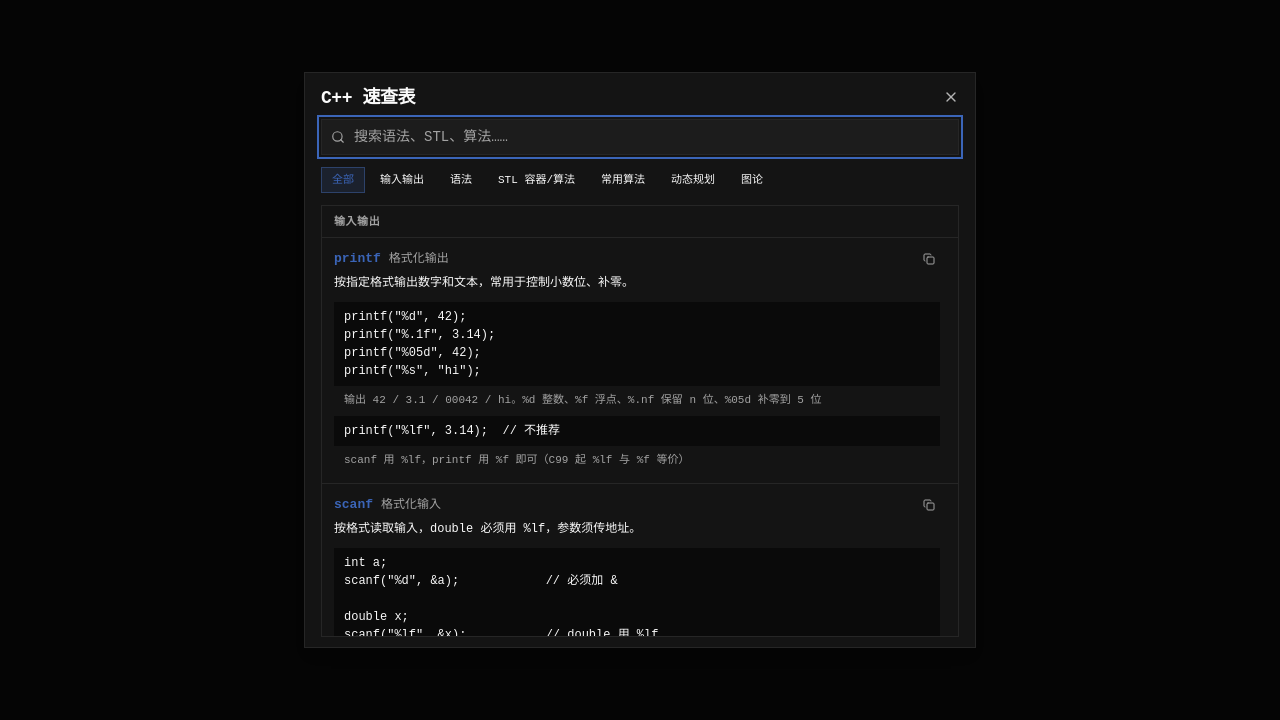
Test: CheatsheetDialog › 无匹配显示空状态文案
The image size is (1280, 720).
Type "xyz123_not_exists" into the field with placeholder "搜索语法、STL、算法……" at (640, 137), box [321,119,959,155]
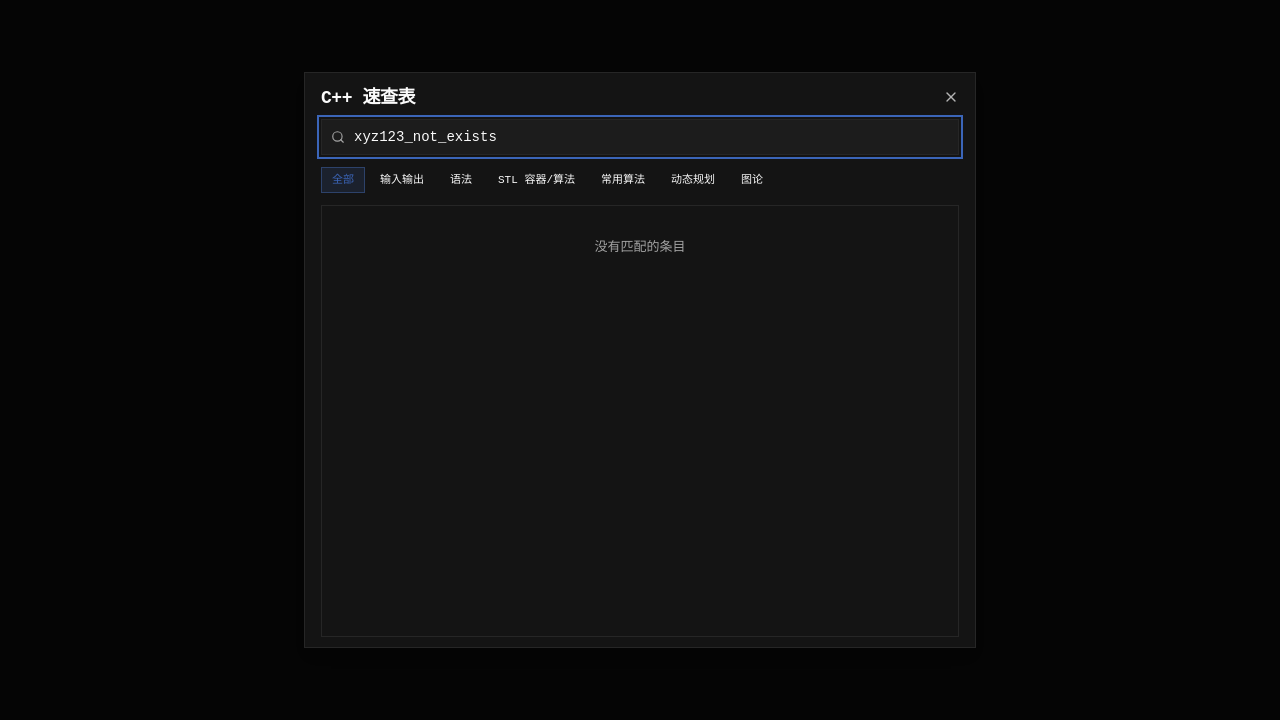
Check: the text "没有匹配的条目" is shown, box [594,240,686,255]
